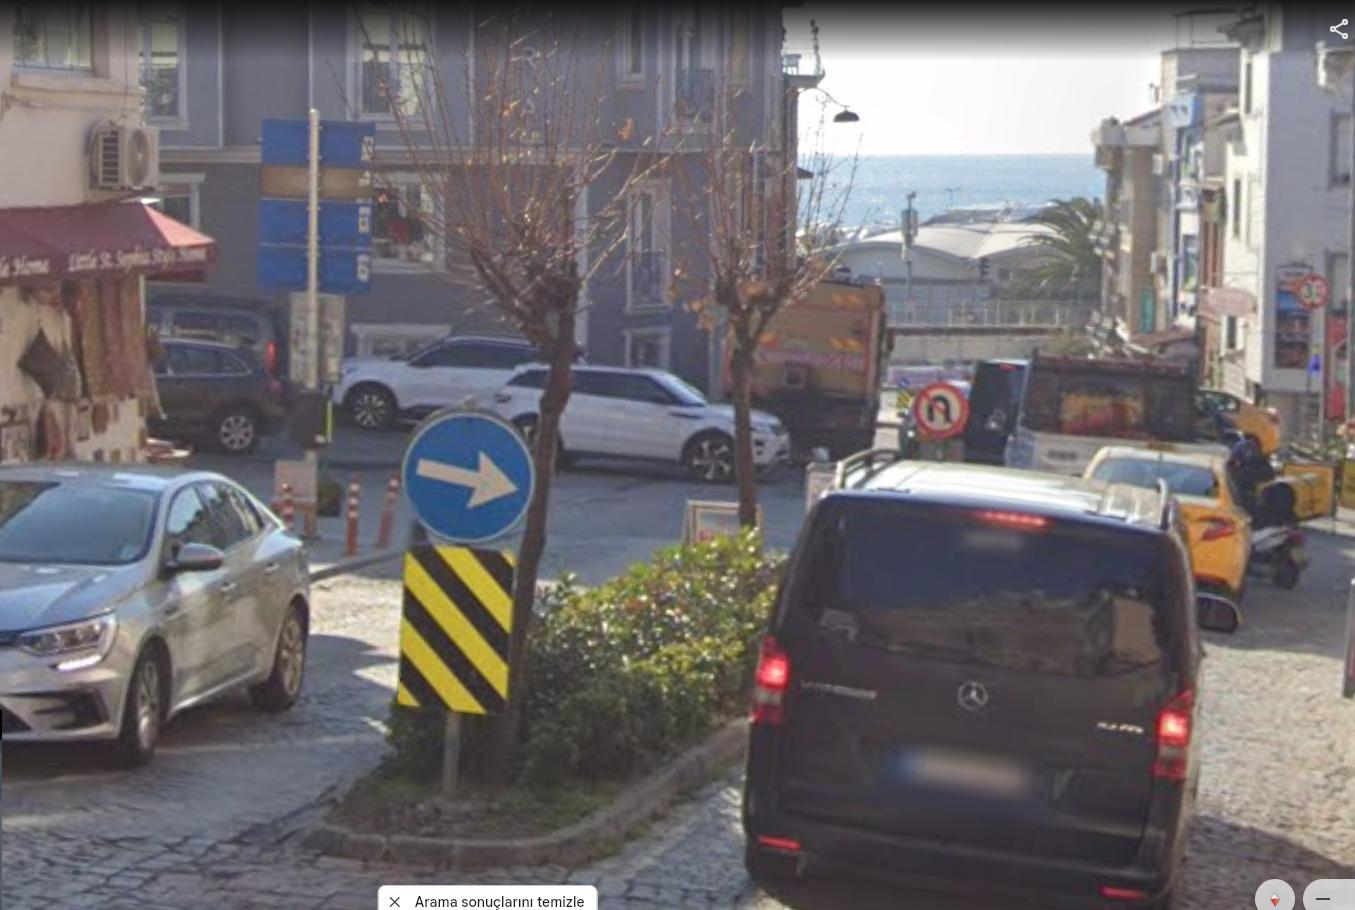turnright: (386, 386, 552, 547)
